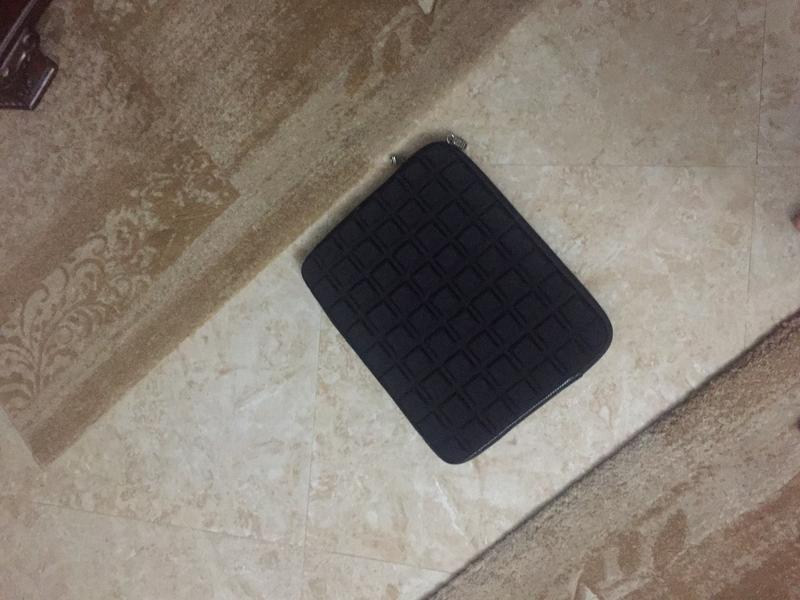cover: (287, 132, 619, 463)
